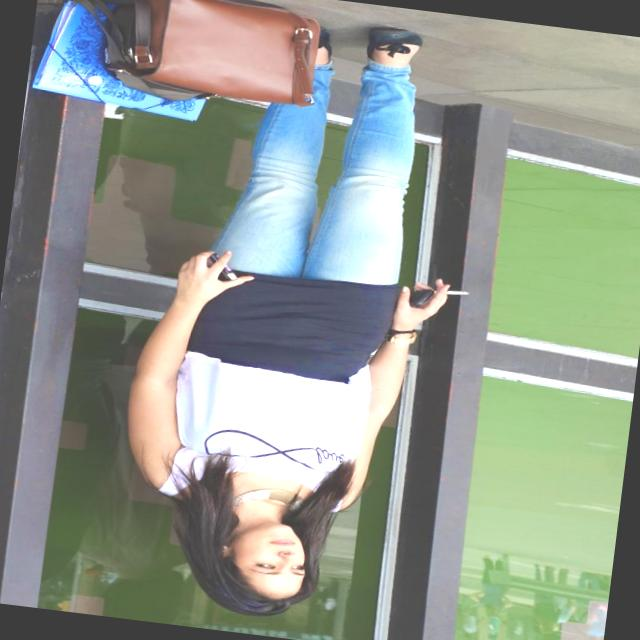smoke: (410, 273, 512, 315)
